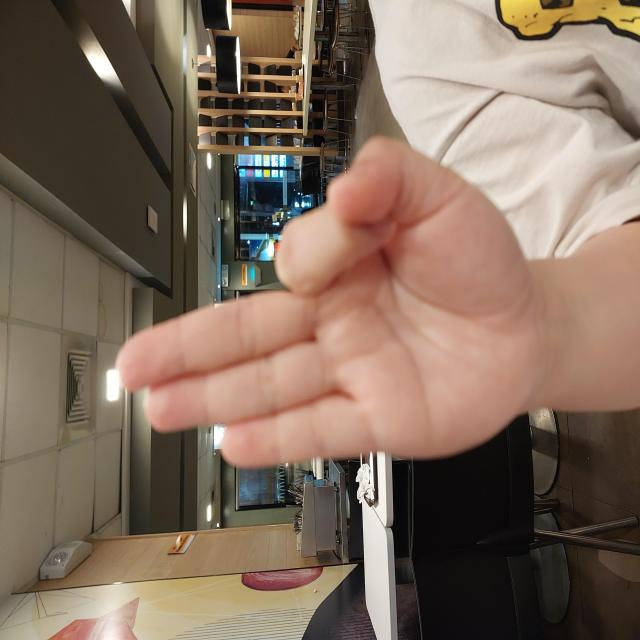F: (171, 112, 505, 534)
